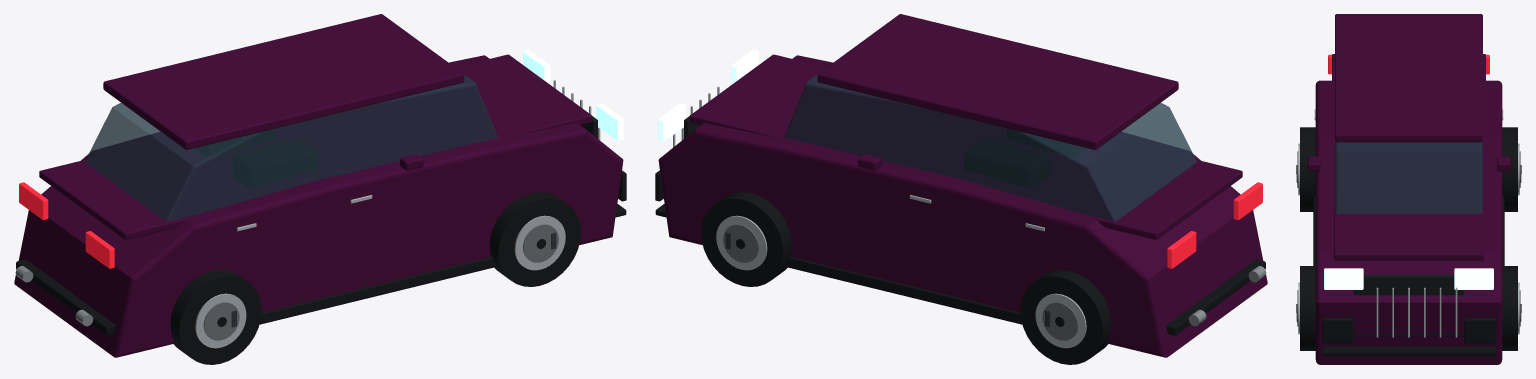
File: chevy_brightdrop_400.glb
3 renders of one model, left to right at view 1: azimuth 30°, elevation 25°; view 2: azimuth 150°, elevation 25°; view 3: azimuth 270°, elevation 25°, orthographic. The views are drawn at different scales.
Parts seen in each view (by area): view 1: sculpted_body, glasshouse, roof, hood_center, rear_deck, rear_right_wheel_tire, front_right_wheel_tire, side_skirt_1, seat_1, rear_diffuser, rear_right_wheel_rim, front_right_wheel_rim (+7 smaller); view 2: sculpted_body, glasshouse, roof, hood_center, rear_deck, rear_left_wheel_tire, front_left_wheel_tire, side_skirt_-1, seat_-1, rear_diffuser, rear_left_wheel_rim, front_left_wheel_rim (+7 smaller); view 3: sculpted_body, roof, glasshouse, hood_center, front_grille, front_splitter, front_left_wheel_tire, front_right_wheel_tire, rear_left_wheel_tire, rear_right_wheel_tire, headlight_right, headlight_left (+7 smaller).
Boxes of the visible parts, x1=… form: sculpted_body: x1=14, y1=55, x2=623, y2=357; glasshouse: x1=85, y1=74, x2=497, y2=221; roof: x1=103, y1=14, x2=464, y2=149; hood_center: x1=415, y1=54, x2=592, y2=142; rear_deck: x1=39, y1=153, x2=198, y2=239; rear_right_wheel_tire: x1=170, y1=270, x2=261, y2=364; front_right_wheel_tire: x1=489, y1=192, x2=580, y2=286; side_skirt_1: x1=259, y1=256, x2=495, y2=324; seat_1: x1=233, y1=139, x2=316, y2=187; rear_diffuser: x1=16, y1=259, x2=115, y2=335; rear_right_wheel_rim: x1=195, y1=293, x2=246, y2=348; front_right_wheel_rim: x1=514, y1=215, x2=565, y2=270; sculpted_body: x1=658, y1=55, x2=1267, y2=357; glasshouse: x1=784, y1=74, x2=1196, y2=221; roof: x1=817, y1=14, x2=1178, y2=149; hood_center: x1=689, y1=54, x2=866, y2=142; rear_deck: x1=1083, y1=153, x2=1242, y2=239; rear_left_wheel_tire: x1=1020, y1=270, x2=1111, y2=364; front_left_wheel_tire: x1=701, y1=192, x2=792, y2=286; side_skirt_-1: x1=786, y1=256, x2=1022, y2=324; seat_-1: x1=965, y1=139, x2=1048, y2=187; rear_diffuser: x1=1166, y1=259, x2=1265, y2=335; rear_left_wheel_rim: x1=1035, y1=293, x2=1086, y2=348; front_left_wheel_rim: x1=716, y1=215, x2=767, y2=270; sculpted_body: x1=1315, y1=80, x2=1502, y2=364; roof: x1=1335, y1=14, x2=1482, y2=142; glasshouse: x1=1335, y1=142, x2=1482, y2=213; hood_center: x1=1334, y1=206, x2=1483, y2=260; front_grille: x1=1353, y1=274, x2=1464, y2=336; front_splitter: x1=1322, y1=346, x2=1495, y2=356; front_left_wheel_tire: x1=1502, y1=266, x2=1517, y2=350; front_right_wheel_tire: x1=1300, y1=266, x2=1315, y2=350; rear_left_wheel_tire: x1=1502, y1=127, x2=1517, y2=211; rear_right_wheel_tire: x1=1300, y1=127, x2=1315, y2=211; headlight_right: x1=1324, y1=268, x2=1363, y2=289; headlight_left: x1=1454, y1=268, x2=1493, y2=289.
Size of the model in its own units: 5.56 by 2.1 by 2.28.
